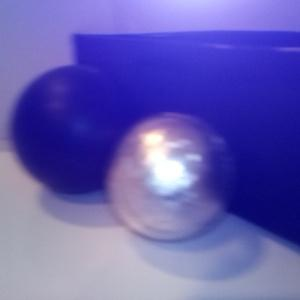alive_ball: (105, 111, 238, 242)
dead_ball: (11, 63, 141, 194)
